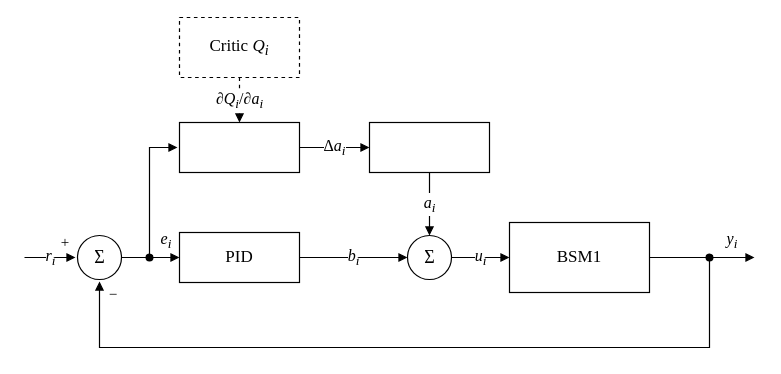
Some shapes in this 781 by 374 pixel diagram are drawn without their labels. Here are the shapes that lost their labels. From the top down, the centre of each, then its label:
At point 239,147: "Action net π i".
At point 429,147: "1 / (1 − z −1 )".
